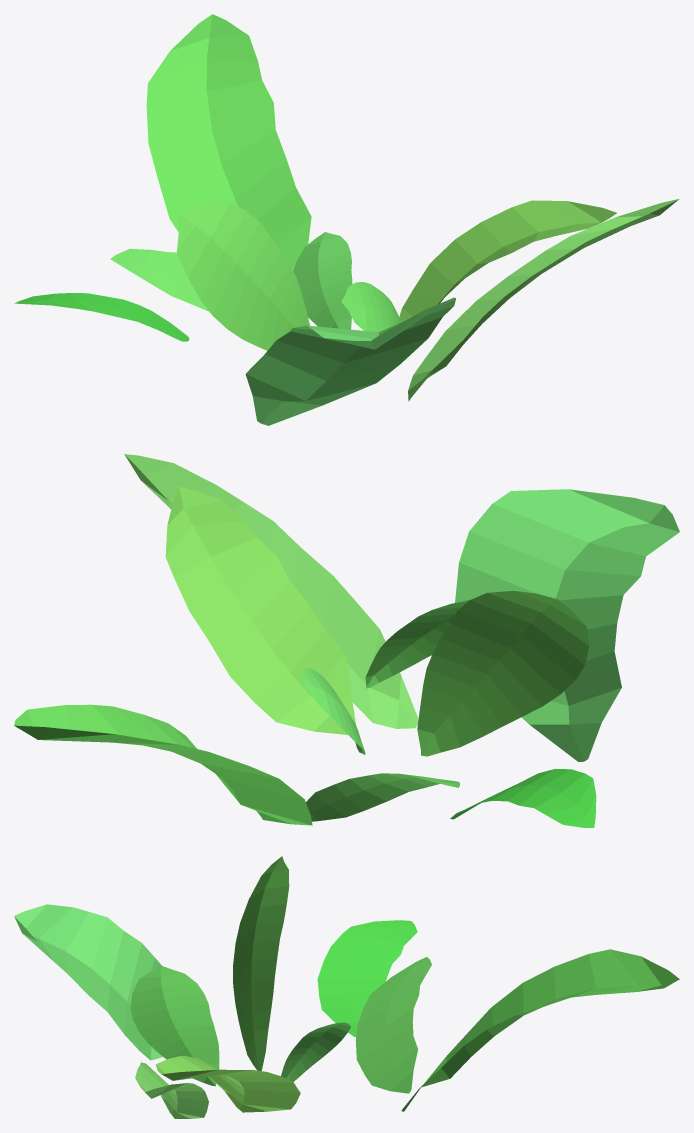
The model's file is leaf5.fbx.
3 views of the same model, one above another, from view 1: azimuth 30°, elevation 25°; view 2: azimuth 150°, elevation 25°; view 3: azimuth 270°, elevation 25° (orthographic). The views are drawn at different scales.
Parts seen in each view (by area): view 1: Plane.001, Plane, Plane.006, Plane.003, Plane.005, Plane.004, Plane.002, Plane.009, Plane.008; view 2: Plane.006, Plane.003, Plane, Plane.005, Plane.001, Plane.009, Plane.002, Plane.008, Plane.004; view 3: Plane.006, Plane.001, Plane, Plane.008, Plane.002, Plane.009, Plane.003, Plane.005, Plane.004.
Boxes of the visible parts, box(x1,y1,x2,y2) form: Plane.001: box(146, 14, 311, 270); Plane: box(176, 201, 309, 350); Plane.006: box(245, 297, 455, 425); Plane.003: box(399, 200, 616, 321); Plane.005: box(408, 199, 678, 401); Plane.004: box(293, 232, 352, 329); Plane.002: box(110, 248, 208, 311); Plane.009: box(14, 293, 189, 341); Plane.008: box(341, 282, 401, 332); Plane.006: box(455, 489, 679, 761); Plane.003: box(165, 486, 356, 734); Plane: box(417, 591, 588, 756); Plane.005: box(124, 454, 418, 728); Plane.001: box(14, 704, 312, 825); Plane.009: box(450, 769, 596, 827); Plane.002: box(306, 773, 459, 821); Plane.008: box(365, 599, 470, 688); Plane.004: box(300, 668, 365, 754); Plane.006: box(14, 904, 162, 1060); Plane.001: box(401, 949, 679, 1111); Plane: box(233, 856, 289, 1070); Plane.008: box(130, 965, 219, 1086); Plane.002: box(355, 957, 431, 1093); Plane.009: box(317, 920, 417, 1036); Plane.003: box(155, 1055, 300, 1112); Plane.005: box(135, 1062, 208, 1118); Plane.004: box(281, 1022, 350, 1081).
Size of the model in its own units: 128 by 44.31 by 146.
